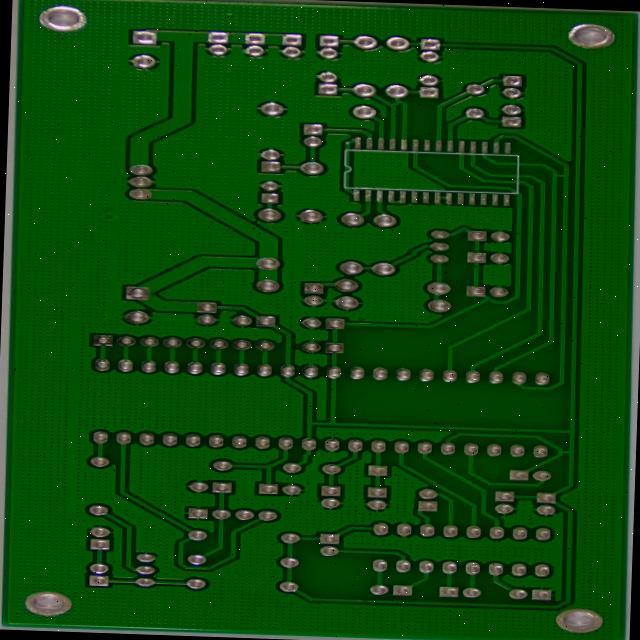short: (379, 96, 409, 113), (550, 444, 579, 459), (544, 166, 570, 182)
